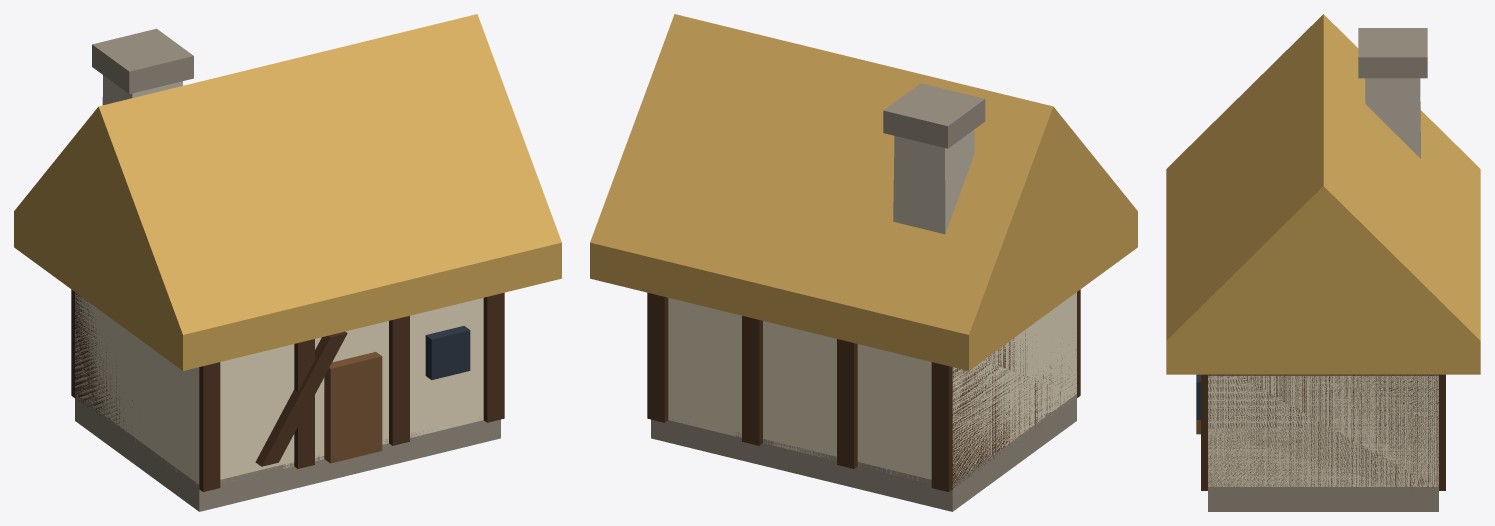
The model's file is house_2_a.glb.
The picture shows the model from 3 angles, left to right: view 1: azimuth 30°, elevation 25°; view 2: azimuth 150°, elevation 25°; view 3: azimuth 270°, elevation 25°; orthographic projection. The views are drawn at different scales.
Visible parts, largest first — view 1: house_2_a; view 2: house_2_a; view 3: house_2_a.
Part boxes in pixels (x1,y1,x2,y2): house_2_a: [14, 14, 561, 511]; house_2_a: [590, 14, 1137, 511]; house_2_a: [1166, 14, 1480, 511].
Bounding box in the file's own units: 0.176 × 0.168 × 0.136.
